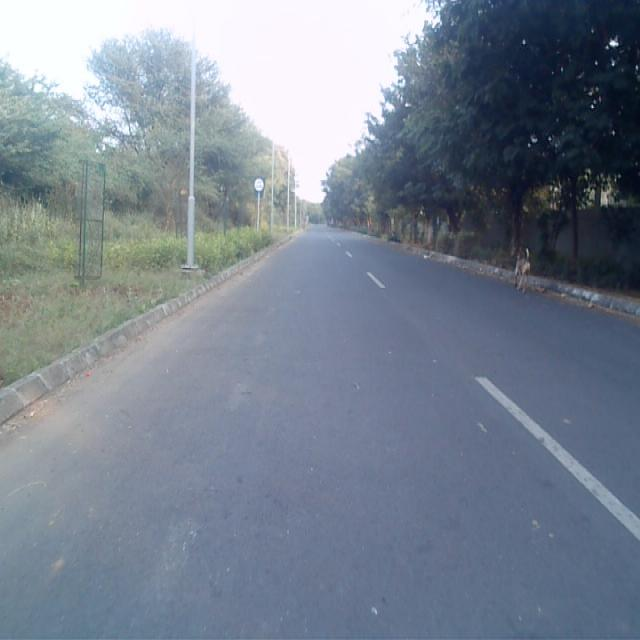lane: (0, 228, 640, 640)
